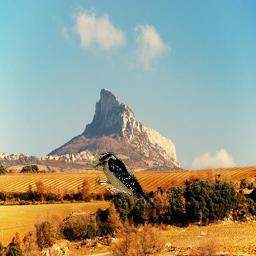Woodpecker: (93, 150, 155, 207)
